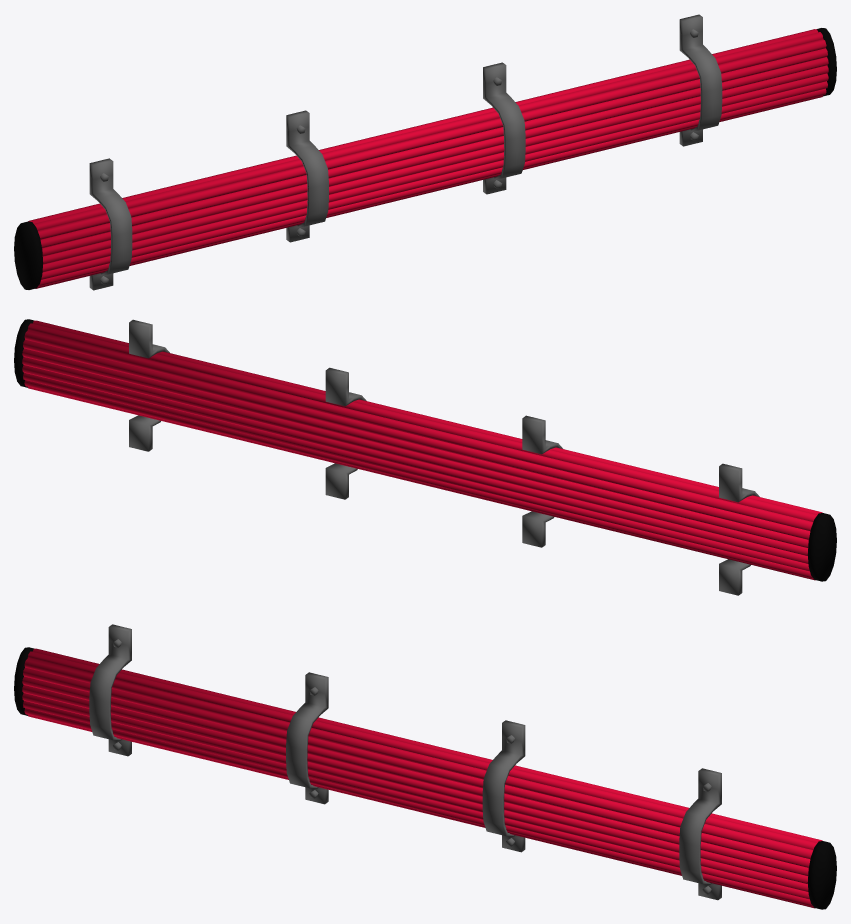
The model's file is cables_wall.fbx.
The picture shows the model from 3 angles, top to bottom: view 1: azimuth 30°, elevation 25°; view 2: azimuth 150°, elevation 25°; view 3: azimuth 330°, elevation 25°; orthographic projection.
Parts seen in each view (by area): view 1: Cables; view 2: Cables; view 3: Cables.
Boxes of the visible parts, <box> form: Cables: <box>14,14,836,290</box>; Cables: <box>14,319,836,595</box>; Cables: <box>14,624,836,909</box>.
Size of the model in its own units: 204 by 30.29 by 10.16.
